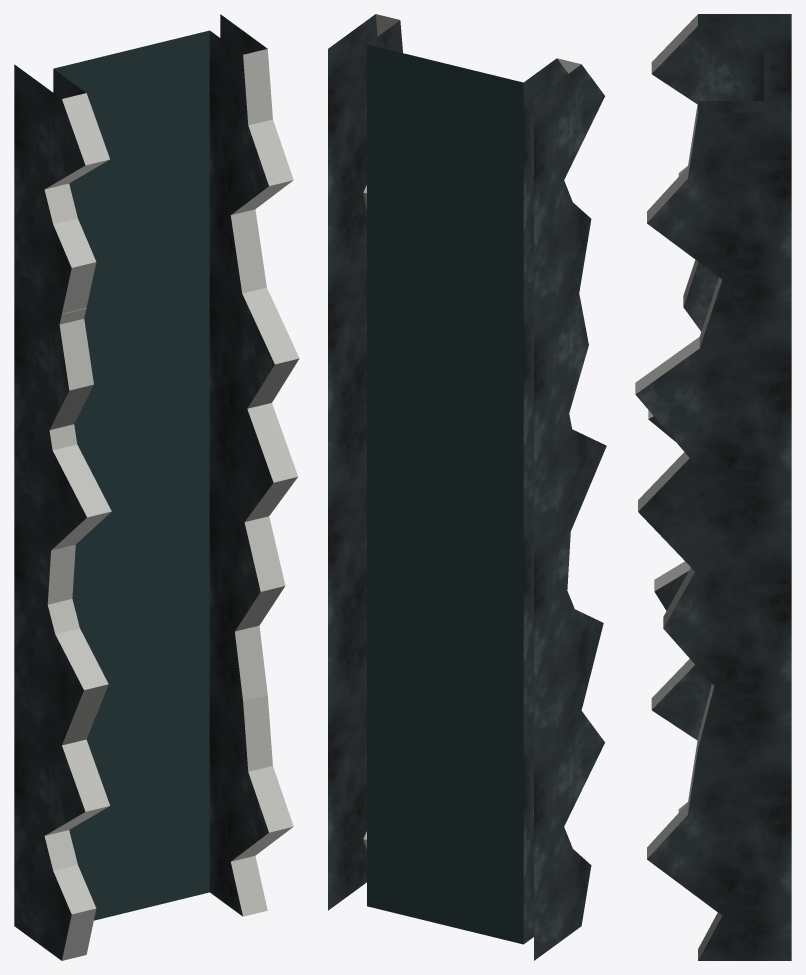
File: OT_049_broken_wall_vert_deco_var4.glb
3 renders of one model, left to right at view 1: azimuth 30°, elevation 25°; view 2: azimuth 150°, elevation 25°; view 3: azimuth 270°, elevation 25°, orthographic.
Visible parts, largest first — view 1: broken_wall, broken_wall.001; view 2: broken_wall, broken_wall.001; view 3: broken_wall, broken_wall.001.
Boxes of the visible parts, x1,y1,x2,y2 form: broken_wall: [14, 14, 299, 745]; broken_wall.001: [14, 677, 293, 960]; broken_wall: [328, 14, 606, 745]; broken_wall.001: [328, 667, 604, 960]; broken_wall: [635, 14, 791, 748]; broken_wall.001: [647, 659, 791, 960].
Size of the model in its own units: 0.75 by 3 by 0.5008.
3 materials, 1 textured.
